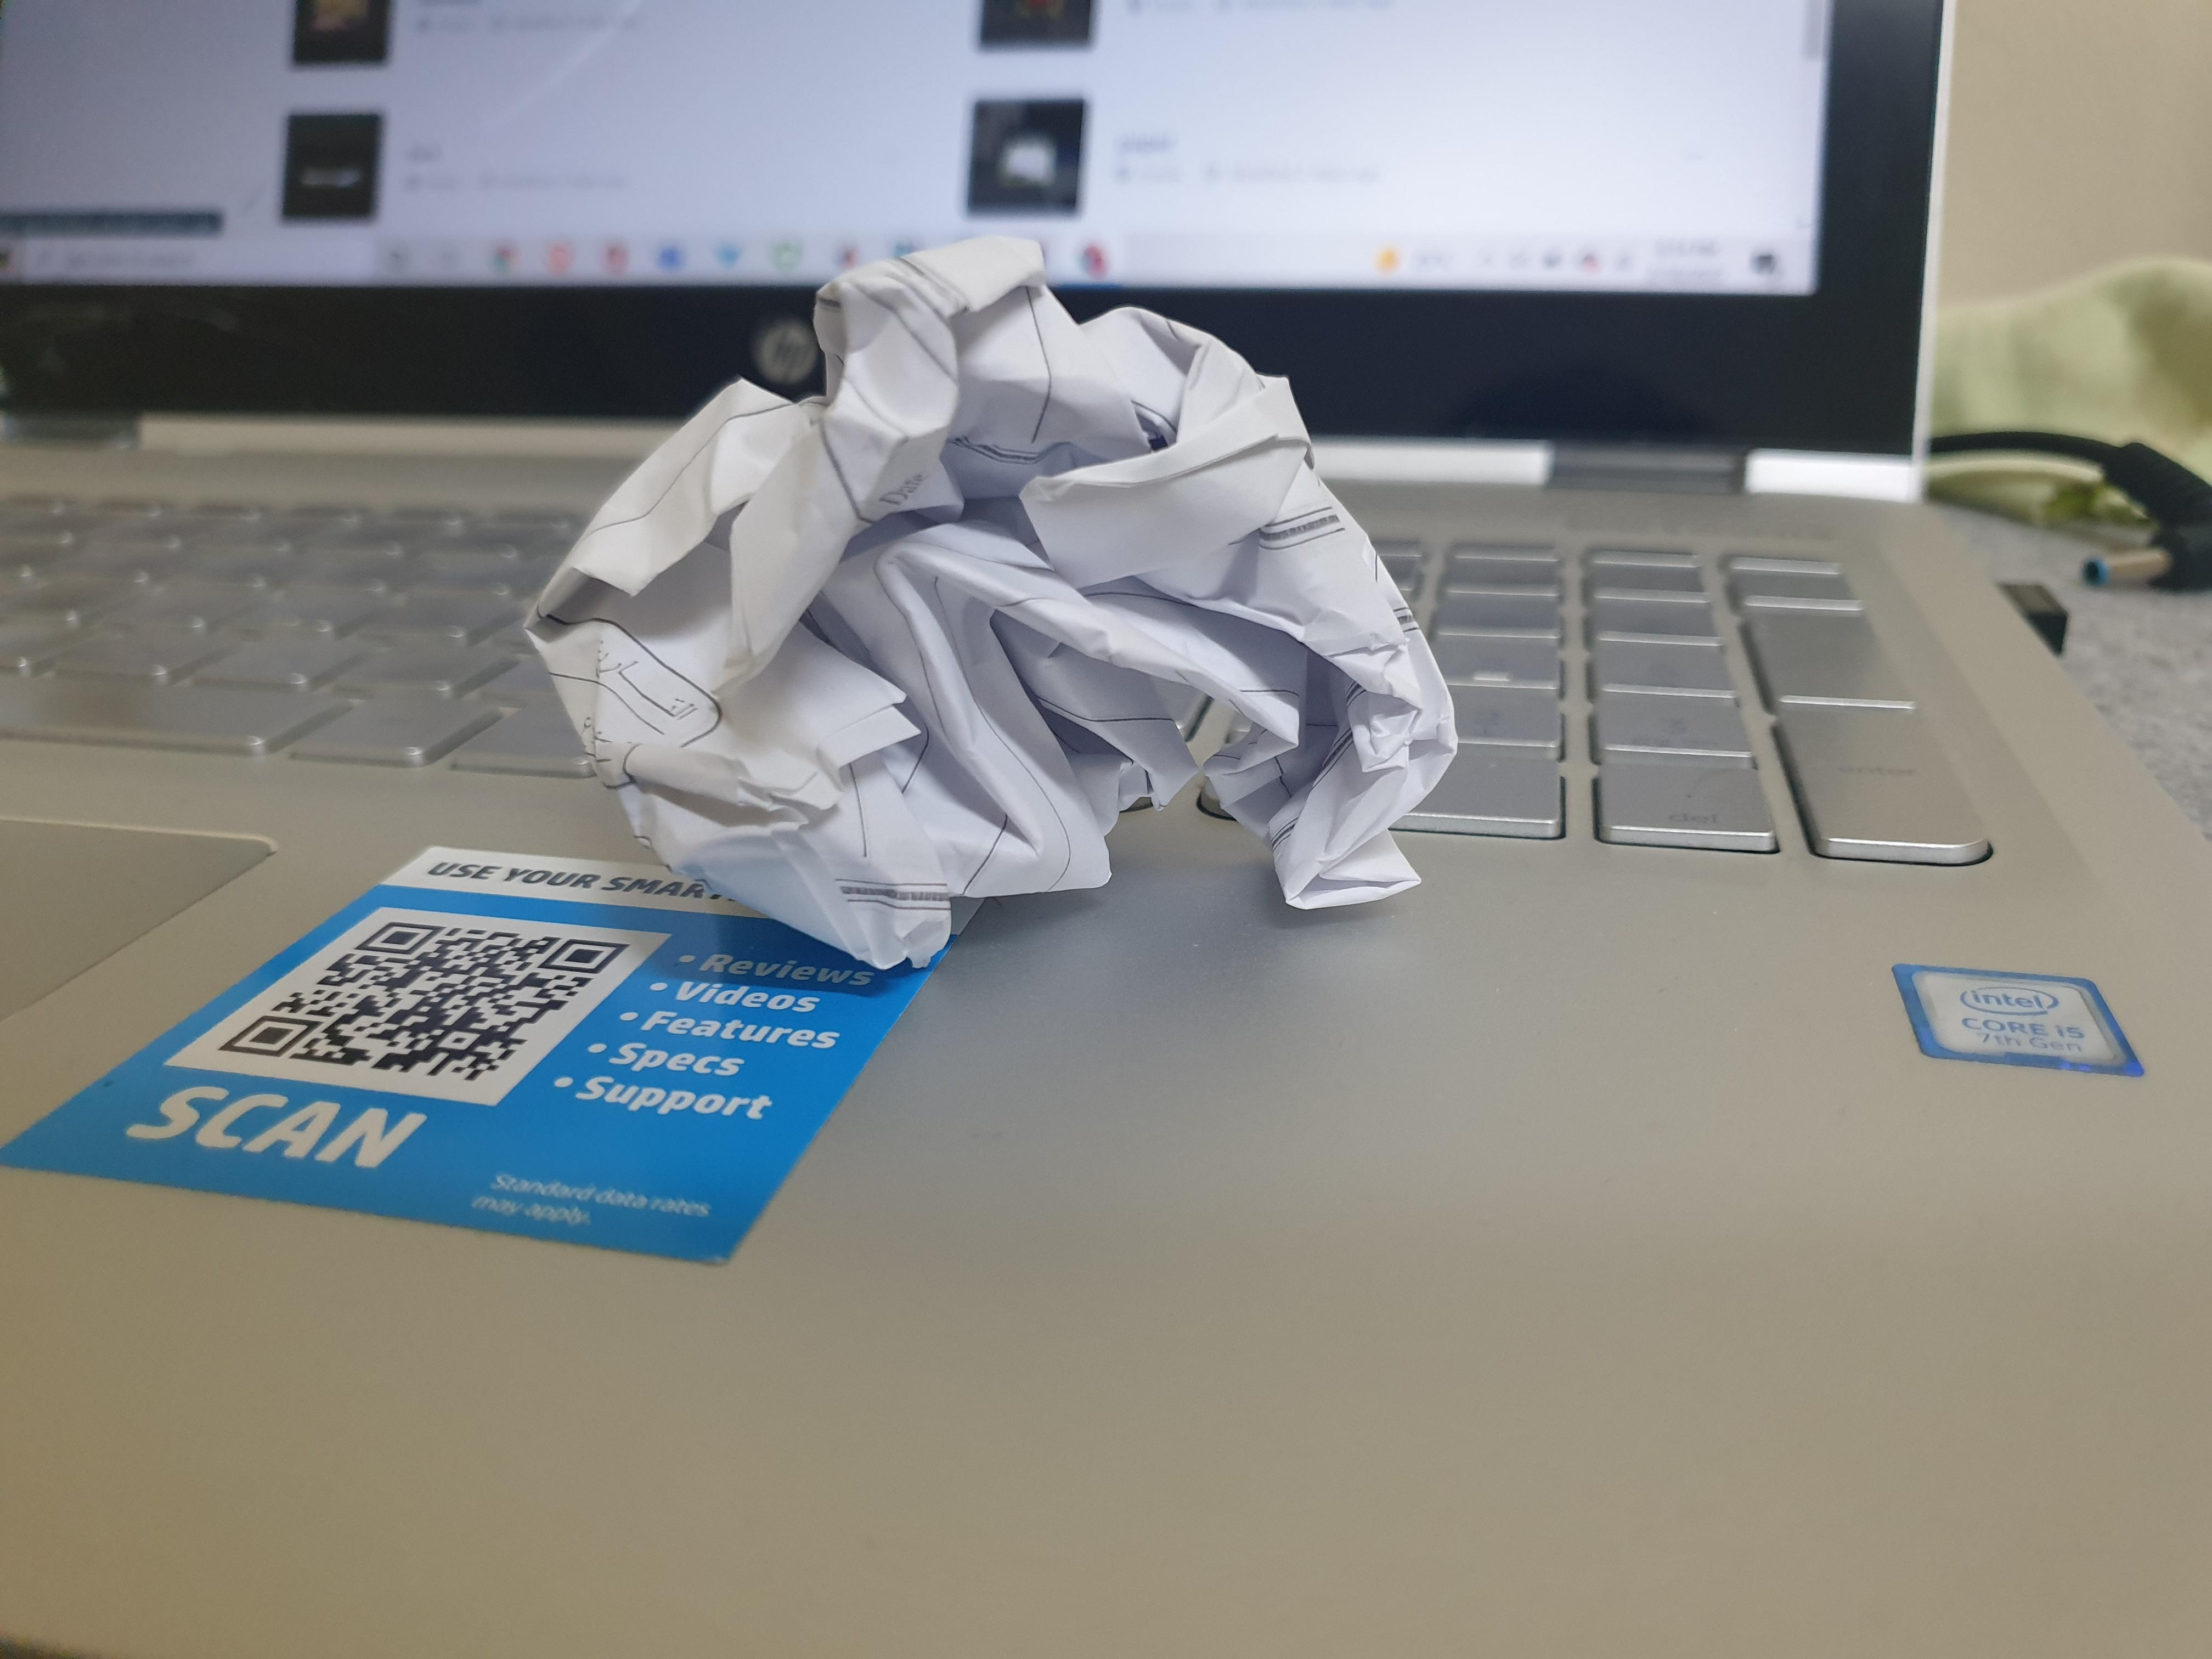Paper: (532, 220, 1474, 1051)
